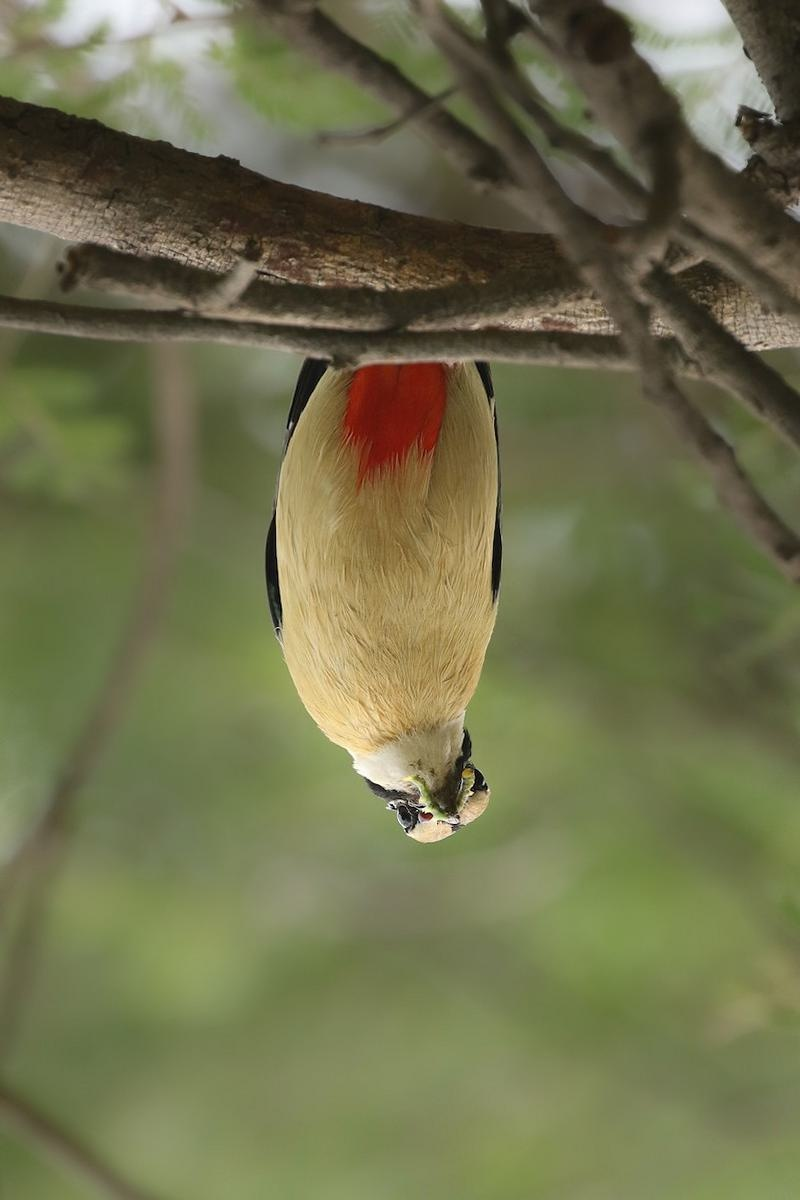pitta: (264, 293, 516, 878)
